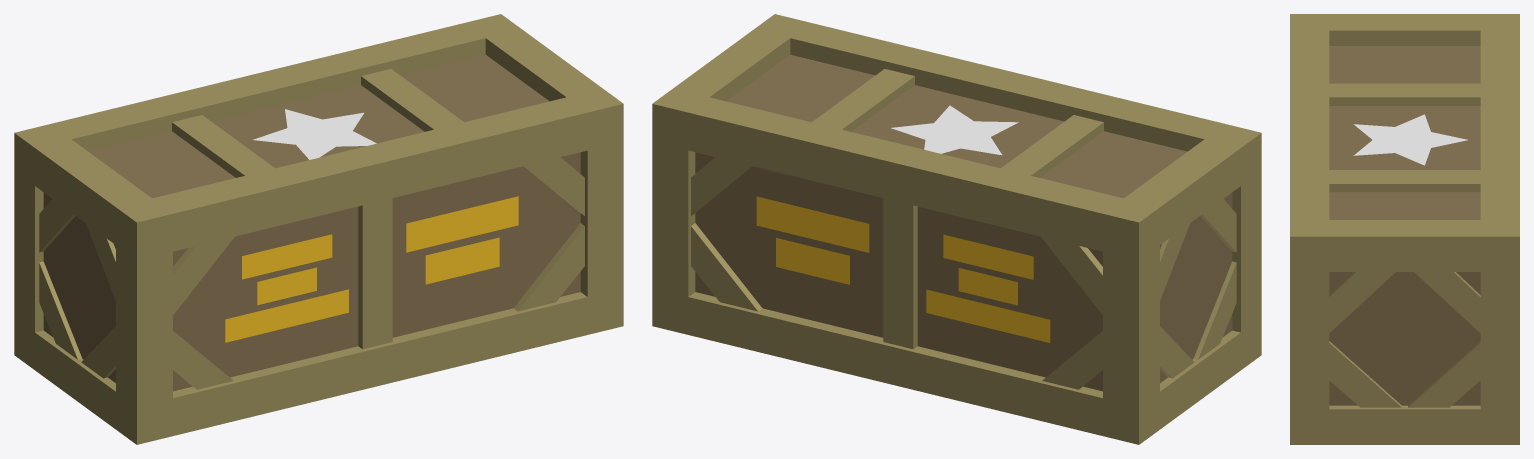
The model's file is box_big_3.glb.
3 renders of one model, left to right at view 1: azimuth 30°, elevation 25°; view 2: azimuth 150°, elevation 25°; view 3: azimuth 270°, elevation 25°, orthographic. The views are drawn at different scales.
Visible parts, largest first — view 1: box_005; view 2: box_005; view 3: box_005.
Boxes of the visible parts, bbox=[...] form: box_005: bbox=[14, 14, 623, 444]; box_005: bbox=[652, 14, 1261, 444]; box_005: bbox=[1290, 14, 1519, 444].
Size of the model in its own units: 1.57 by 0.6843 by 0.6843.
2 materials, 2 textured.
